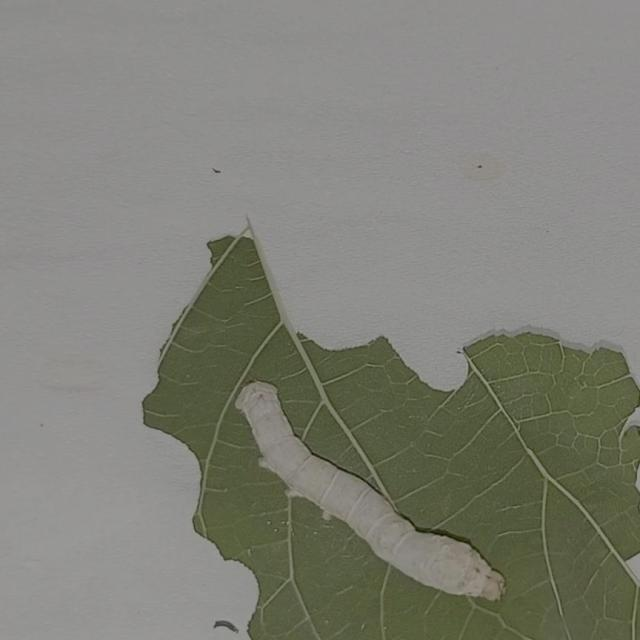Healthy: (218, 348, 531, 620)
